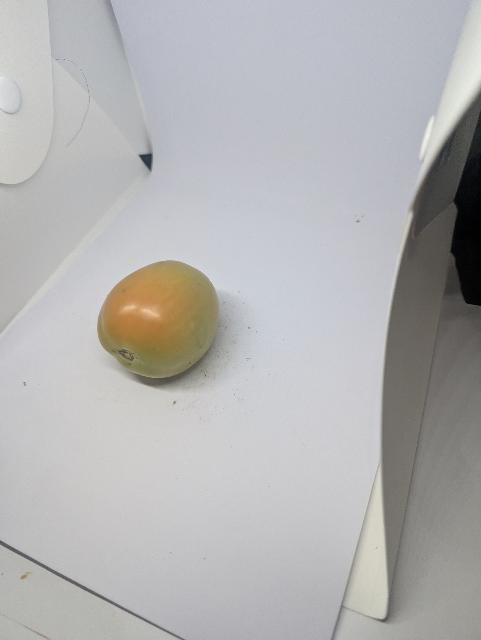breaker: (91, 256, 240, 386)
